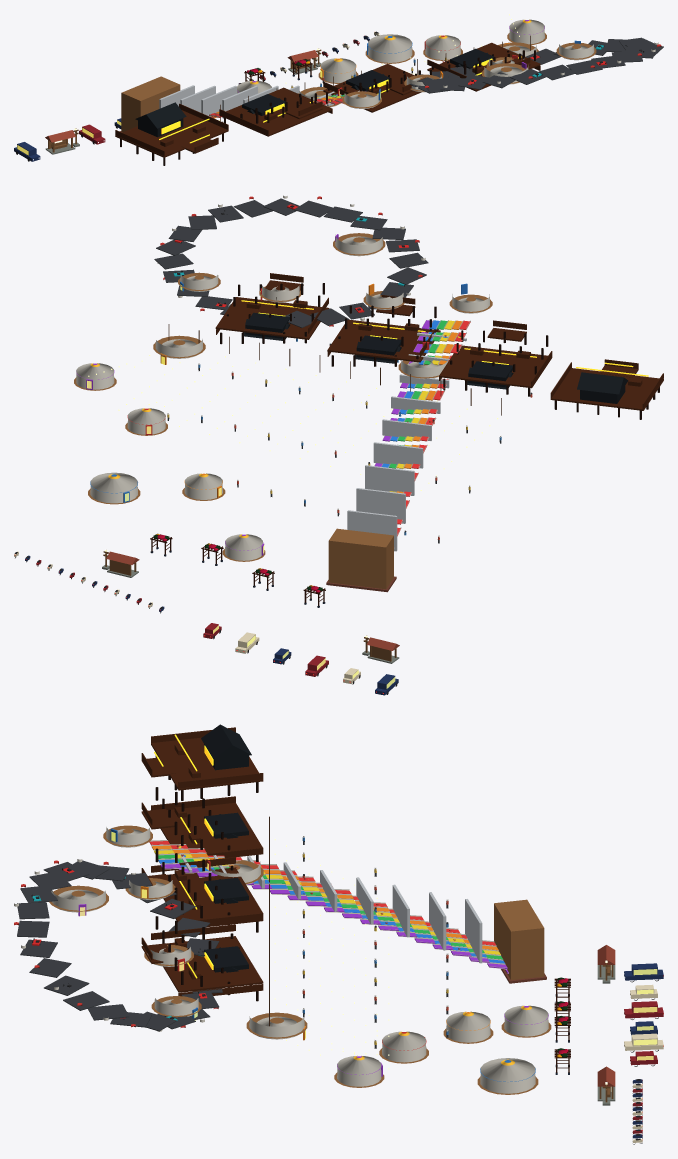
File: ul_w9_02_mongo_land_ta_nung_rainbow_dry_slide_yurts_and_gokarts.glb
The picture shows the model from 3 angles, top to bottom: view 1: azimuth 30°, elevation 25°; view 2: azimuth 150°, elevation 25°; view 3: azimuth 270°, elevation 25°; orthographic projection. The views are drawn at different scales.
Visible parts, largest first — view 1: ul_w9_02_mongo_land_ta_nung_rainbow_dry_slide_yurts_and_goka (×14); view 2: ul_w9_02_mongo_land_ta_nung_rainbow_dry_slide_yurts_and_goka (×8); view 3: ul_w9_02_mongo_land_ta_nung_rainbow_dry_slide_yurts_and_goka (×18).
Part boxes in pixels (<box>): ul_w9_02_mongo_land_ta_nung_rainbow_dry_slide_yurts_and_goka (×14): <box>14,19,663,165</box>; ul_w9_02_mongo_land_ta_nung_rainbow_dry_slide_yurts_and_goka (×8): <box>74,195,663,589</box>; ul_w9_02_mongo_land_ta_nung_rainbow_dry_slide_yurts_and_goka (×18): <box>14,724,663,1142</box>.
Bounding box in the file's own units: 113 × 44 × 104.
